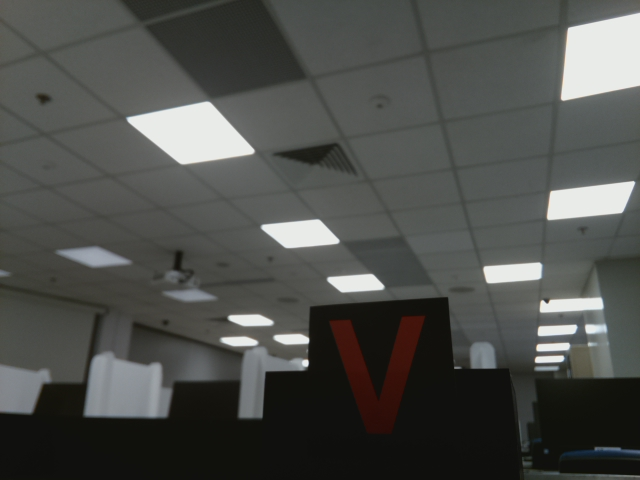v: (321, 312, 430, 434)
